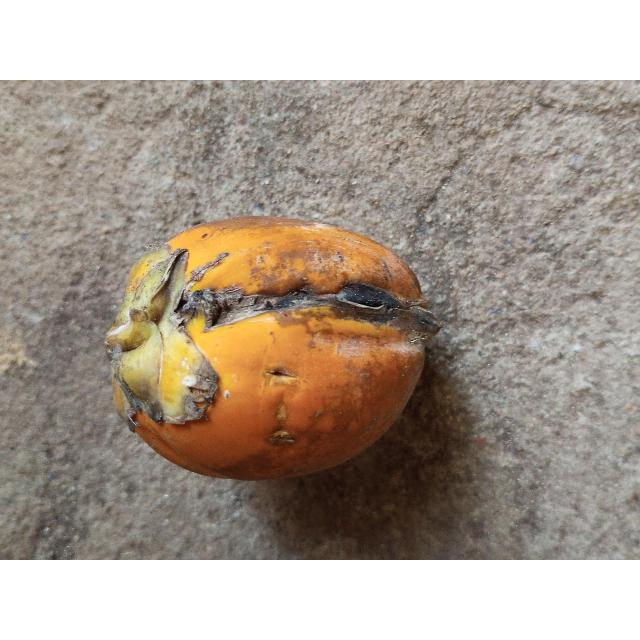damaged: (105, 217, 440, 479)
